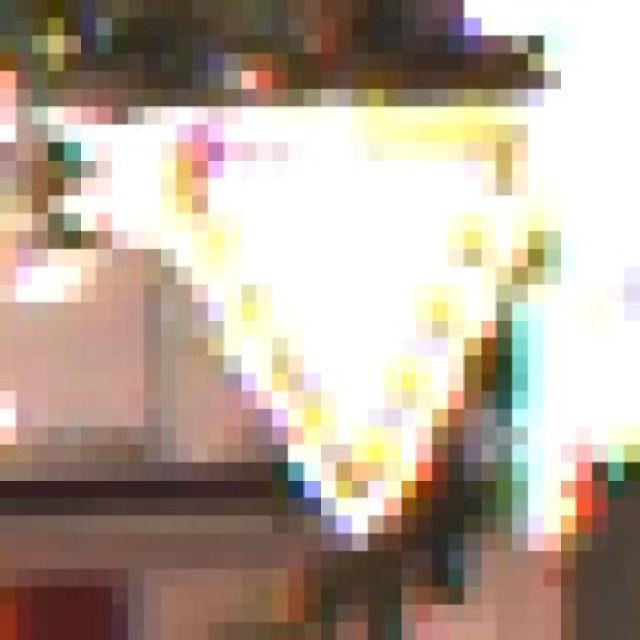Give Way: (104, 58, 602, 628)
